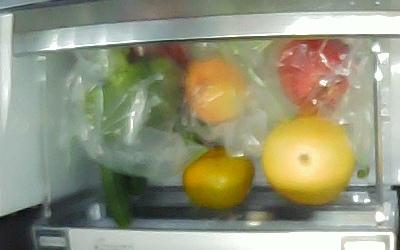apple_vinyl: (279, 39, 350, 112)
broccoli_vinyl: (116, 55, 183, 126)
cucumber_vinyl: (90, 78, 134, 227)
grapefruit: (261, 116, 355, 205)
peach_vinyl: (184, 57, 246, 126)
persimmon_vinyl: (182, 144, 254, 209)
